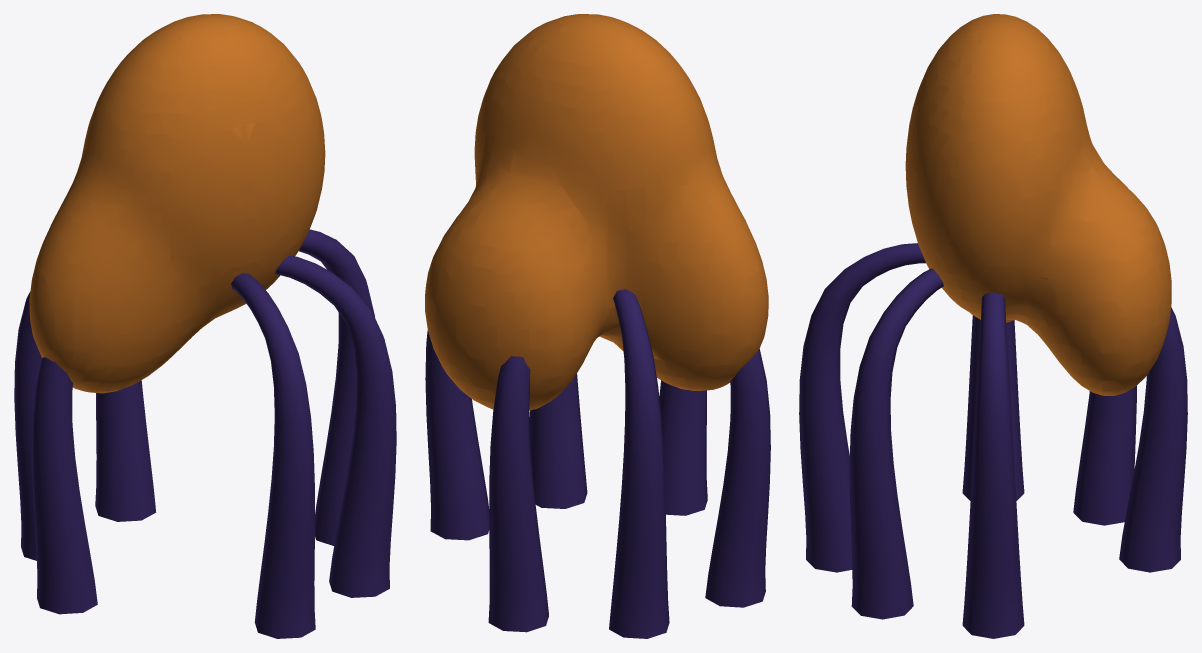
File: Tree Blob-QHYRrAnKzW.glb
3 renders of one model, left to right at view 1: azimuth 30°, elevation 25°; view 2: azimuth 150°, elevation 25°; view 3: azimuth 270°, elevation 25°, orthographic.
Visible parts, largest first — view 1: Tree_Blob_1; view 2: Tree_Blob_1; view 3: Tree_Blob_1.
Part boxes in pixels (x1=…): Tree_Blob_1: x1=14, y1=14, x2=396, y2=638; Tree_Blob_1: x1=425, y1=14, x2=770, y2=638; Tree_Blob_1: x1=799, y1=14, x2=1187, y2=638.
Size of the model in its own units: 3.86 by 5.88 by 3.86.
1 material, 1 textured.
